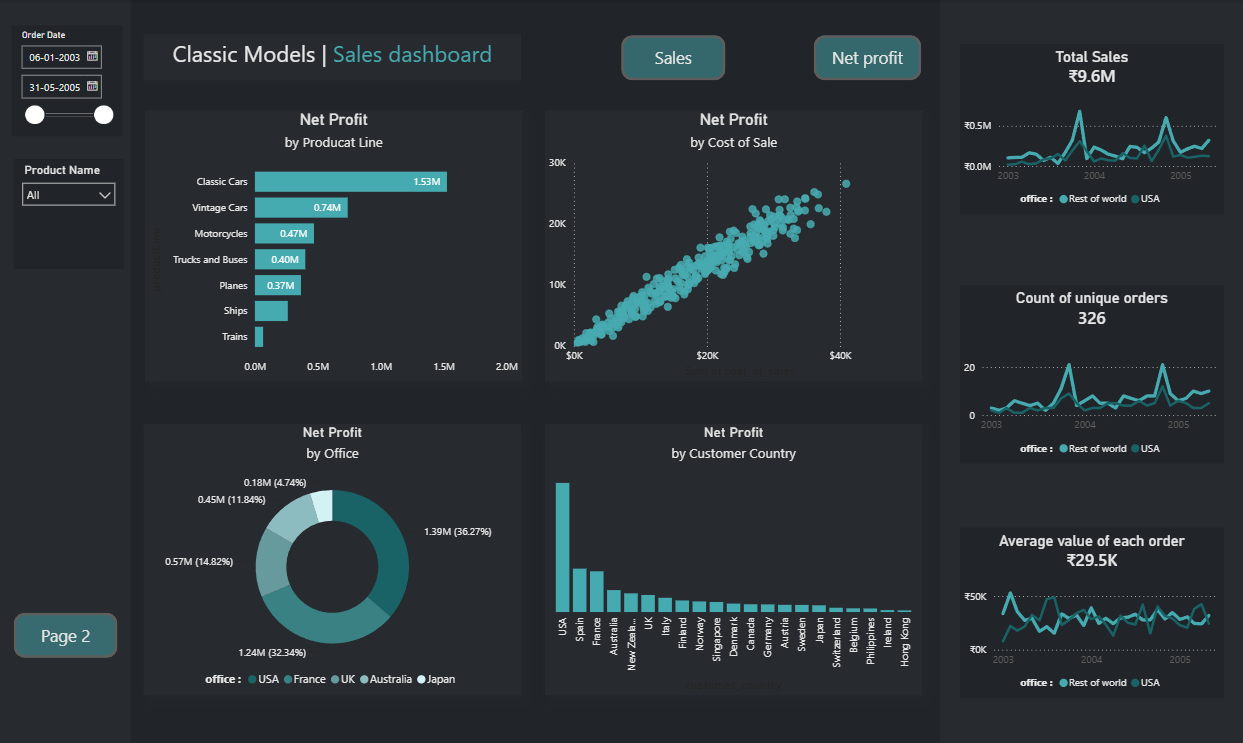

The page's visual inventory and layout, read from the dashboard file:
{"tool":"powerbi","page":{"name":"Sales Overview Page 1","canvas":[1500,900],"ordinal":0},"visuals":[{"type":"shape","box":[0,0,157.6,900.5],"z":0},{"type":"shape","box":[1133.7,0,366.6,900.5],"z":1000},{"type":"shape","box":[1157.8,54.7,318.4,204.2],"z":2000},{"type":"shape","box":[1157.8,638.4,318.4,204.2],"z":3000},{"type":"shape","box":[1157.8,350.6,318.4,201],"z":4000},{"type":"cardVisual","title":"Total Sales","fields":{"Data":["classicmodels sales_data_for_power_bi.Total Sales"]},"box":[1157.8,54.7,318.4,54.7],"z":5000},{"type":"cardVisual","title":"Average value of each order","fields":{"Data":["classicmodels sales_data_for_power_bi.average"]},"box":[1157.8,638.4,318.4,54.7],"z":6000},{"type":"cardVisual","title":"Count of unique orders","fields":{"Data":["classicmodels sales_data_for_power_bi.Total Orders"]},"box":[1157.8,345.7,318.4,54.7],"z":7000},{"type":"lineChart","fields":{"Y":["Sum(classicmodels sales_data_for_power_bi.sales_value)"],"Series":["classicmodels sales_data_for_power_bi.office Grouped"],"Category":["classicmodels sales_data_for_power_bi.orderDate.Variation.Date Hierarchy.Year","classicmodels sales_data_for_power_bi.orderDate.Variation.Date Hierarchy.Month"]},"box":[1157.8,109.3,318.4,149.6],"z":8000},{"type":"lineChart","fields":{"Series":["classicmodels sales_data_for_power_bi.office Grouped"],"Category":["classicmodels sales_data_for_power_bi.orderDate.Variation.Date Hierarchy.Year","classicmodels sales_data_for_power_bi.orderDate.Variation.Date Hierarchy.Month"],"Y":["Count(classicmodels sales_data_for_power_bi.orderNumber)"]},"box":[1157.8,400.4,318.4,159.2],"z":9000},{"type":"lineChart","fields":{"Series":["classicmodels sales_data_for_power_bi.office Grouped"],"Category":["classicmodels sales_data_for_power_bi.orderDate.Variation.Date Hierarchy.Year","classicmodels sales_data_for_power_bi.orderDate.Variation.Date Hierarchy.Month"],"Y":["classicmodels sales_data_for_power_bi.average"]},"box":[1157.8,693.1,318.4,149.6],"z":10000},{"type":"clusteredBarChart","fields":{"Y":["Table.Selected Metric"],"Category":["classicmodels sales_data_for_power_bi.productLine"]},"box":[174.9,134.2,455.4,327.2],"z":11000},{"type":"actionButton","title":"Sales","box":[750,44.3,125.7,54.3],"z":12000},{"type":"actionButton","title":"Sales","box":[981.7,43.7,129.7,54.3],"z":13000},{"type":"scatterChart","fields":{"Y":["Table.Selected Metric"],"X":["Sum(classicmodels sales_data_for_power_bi.cost_of_sales)"],"Category":["classicmodels sales_data_for_power_bi.orderNumber"]},"box":[657.5,134.2,455.4,327.2],"z":15000},{"type":"donutChart","fields":{"Y":["Table.Selected Metric"],"Category":["classicmodels sales_data_for_power_bi.office_country"]},"box":[173.4,512.7,455.4,327.2],"z":16000},{"type":"columnChart","fields":{"Y":["Table.Selected Metric"],"Category":["classicmodels sales_data_for_power_bi.customer_country"]},"box":[657.5,512.7,455.4,327.2],"z":17000},{"type":"textbox","box":[173.4,42.2,455.4,55.8],"z":18000},{"type":"actionButton","title":"Sales","box":[16.6,740.5,125.2,54.3],"z":19000},{"type":"slicer","fields":{"Values":["classicmodels sales_data_for_power_bi.orderDate"]},"box":[13.6,31.7,132.7,132.7],"z":20000},{"type":"slicer","fields":{"Values":["classicmodels sales_data_for_power_bi.productName"]},"box":[16.6,193,132.7,132.7],"z":21000}]}

Visuals, with their boxes in screenshot pixels (x1, y1, x2, y2), scaled from the page's 1500x900 canvas onto the 1243x743 screenshot:
shape: (left=0, top=0, right=131, bottom=742)
shape: (left=939, top=0, right=1242, bottom=742)
shape: (left=959, top=45, right=1223, bottom=214)
shape: (left=959, top=527, right=1223, bottom=696)
shape: (left=959, top=289, right=1223, bottom=455)
"Total Sales" cardVisual: (left=959, top=45, right=1223, bottom=90)
"Average value of each order" cardVisual: (left=959, top=527, right=1223, bottom=572)
"Count of unique orders" cardVisual: (left=959, top=285, right=1223, bottom=331)
lineChart - Sum(classicmodels sales_data_for_power_bi.sales_value) x classicmodels sales_data_for_power_bi.office Grouped: (left=959, top=90, right=1223, bottom=214)
lineChart - classicmodels sales_data_for_power_bi.office Grouped x classicmodels sales_data_for_power_bi.orderDate.Variation.Date Hierarchy.Year: (left=959, top=331, right=1223, bottom=462)
lineChart - classicmodels sales_data_for_power_bi.office Grouped x classicmodels sales_data_for_power_bi.orderDate.Variation.Date Hierarchy.Year: (left=959, top=572, right=1223, bottom=696)
clusteredBarChart - Table.Selected Metric x classicmodels sales_data_for_power_bi.productLine: (left=145, top=111, right=522, bottom=381)
"Sales" actionButton: (left=622, top=37, right=726, bottom=81)
"Sales" actionButton: (left=814, top=36, right=921, bottom=81)
scatterChart - Table.Selected Metric x Sum(classicmodels sales_data_for_power_bi.cost_of_sales): (left=545, top=111, right=922, bottom=381)
donutChart - Table.Selected Metric x classicmodels sales_data_for_power_bi.office_country: (left=144, top=423, right=521, bottom=693)
columnChart - Table.Selected Metric x classicmodels sales_data_for_power_bi.customer_country: (left=545, top=423, right=922, bottom=693)
textbox: (left=144, top=35, right=521, bottom=81)
"Sales" actionButton: (left=14, top=611, right=118, bottom=656)
slicer - classicmodels sales_data_for_power_bi.orderDate: (left=11, top=26, right=121, bottom=136)
slicer - classicmodels sales_data_for_power_bi.productName: (left=14, top=159, right=124, bottom=269)
